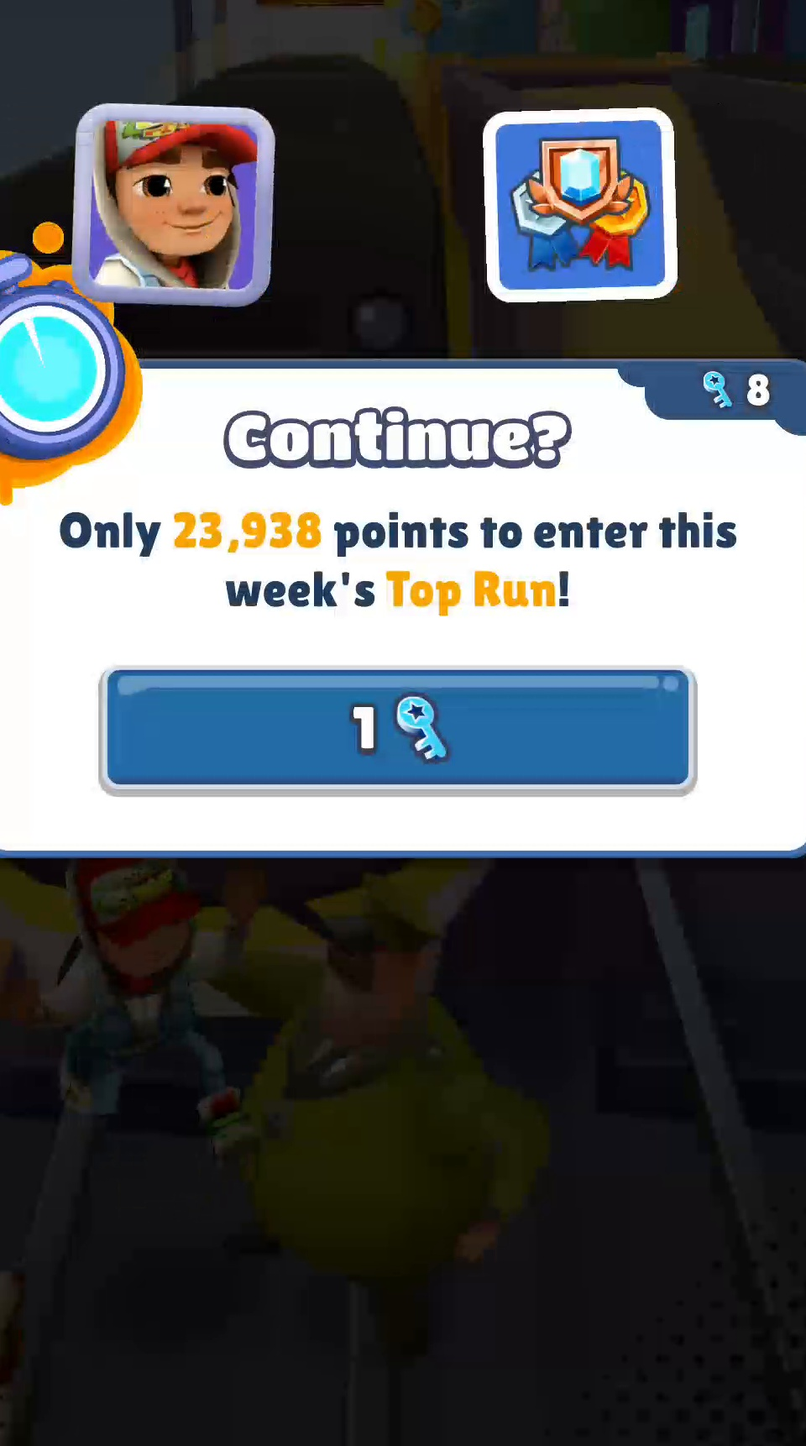police: (216, 879, 547, 1354)
